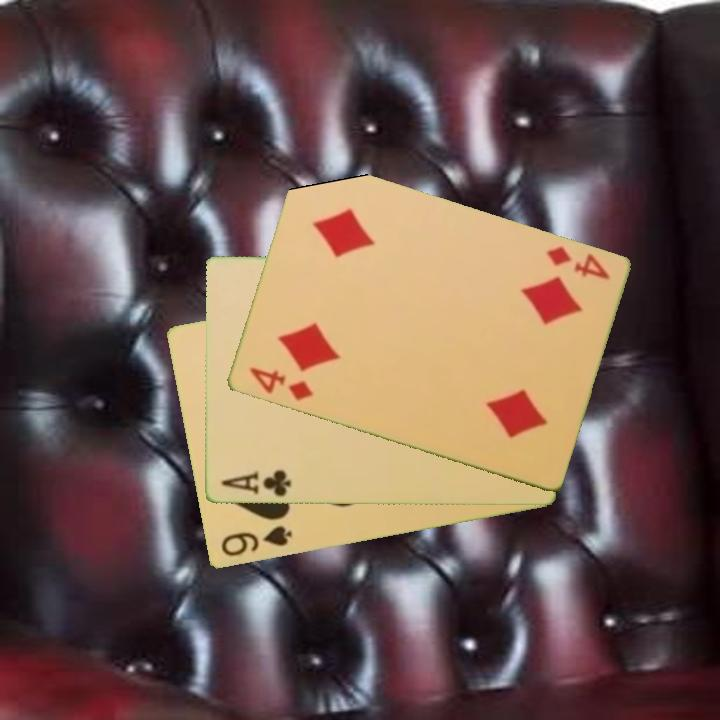4d: (245, 364, 315, 404), (543, 243, 613, 283)
9s: (217, 523, 295, 560)
Ac: (218, 467, 294, 500)
